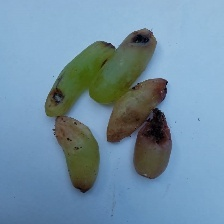grapes: (33, 27, 217, 217)
